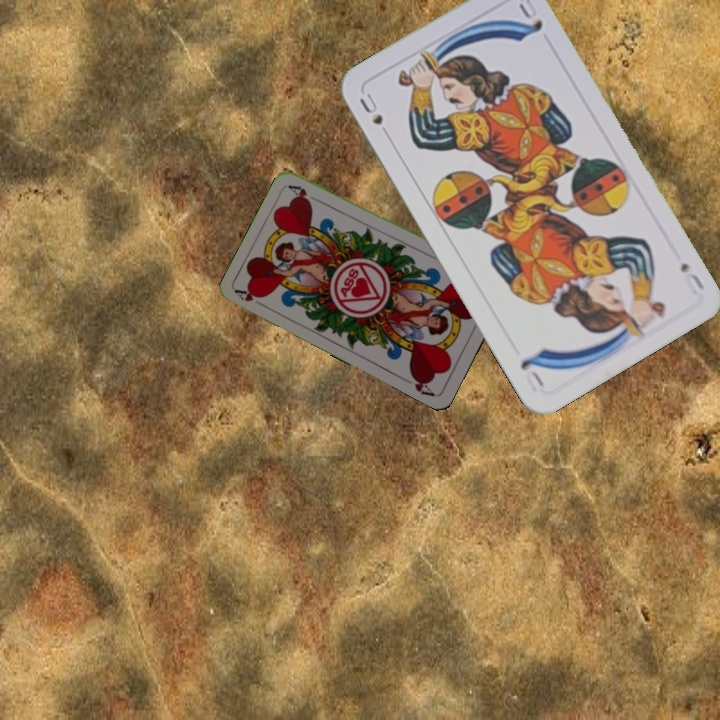HA: (232, 285, 270, 311)
SU: (355, 88, 386, 128), (676, 258, 707, 298)
